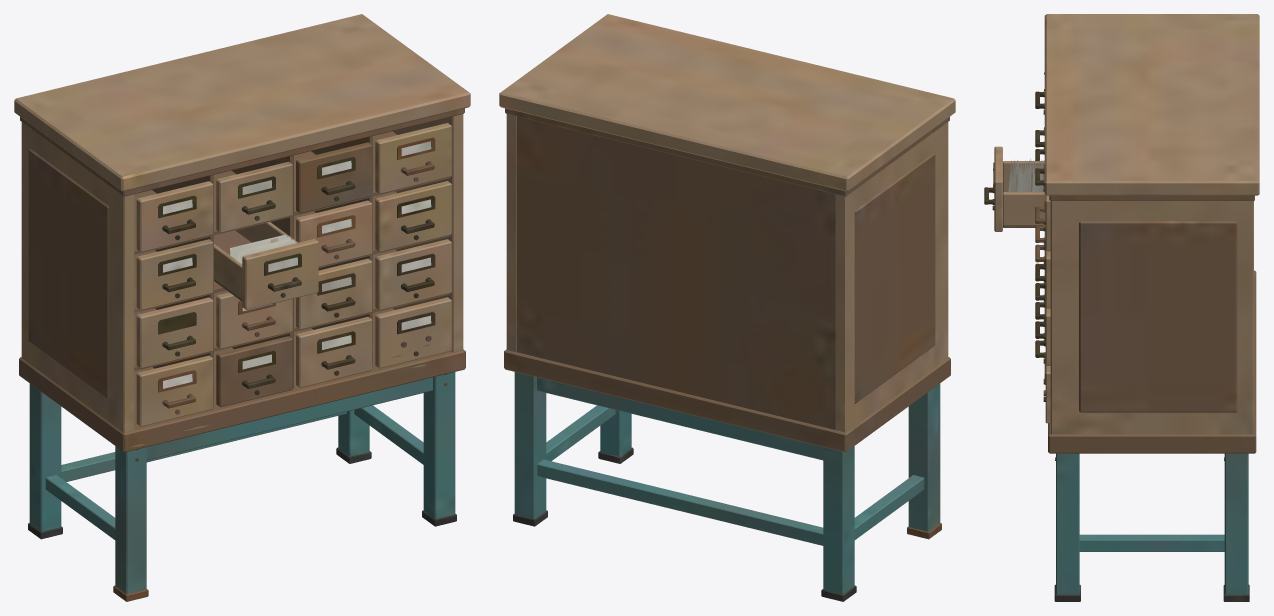
Rendered from Q13_card_catalogue_cabinet.glb.
The picture shows the model from 3 angles, left to right: view 1: azimuth 30°, elevation 25°; view 2: azimuth 150°, elevation 25°; view 3: azimuth 270°, elevation 25°; orthographic projection.
Parts seen in each view (by area): view 1: Overhanging crown; view 2: Overhanging crown; view 3: Overhanging crown.
Boxes of the visible parts, x1,y1,x2,y2 form: Overhanging crown: (14,14,470,601); Overhanging crown: (499,14,955,601); Overhanging crown: (984,14,1259,601).
Size of the model in its own units: 1.02 by 1.2 by 0.705.
Materials: 8 (8 with a texture image).
